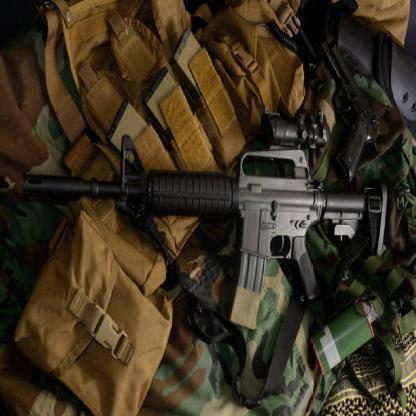Grenade: (310, 286, 388, 378)
Gun: (19, 109, 389, 332)
Pistol: (320, 29, 382, 185)
